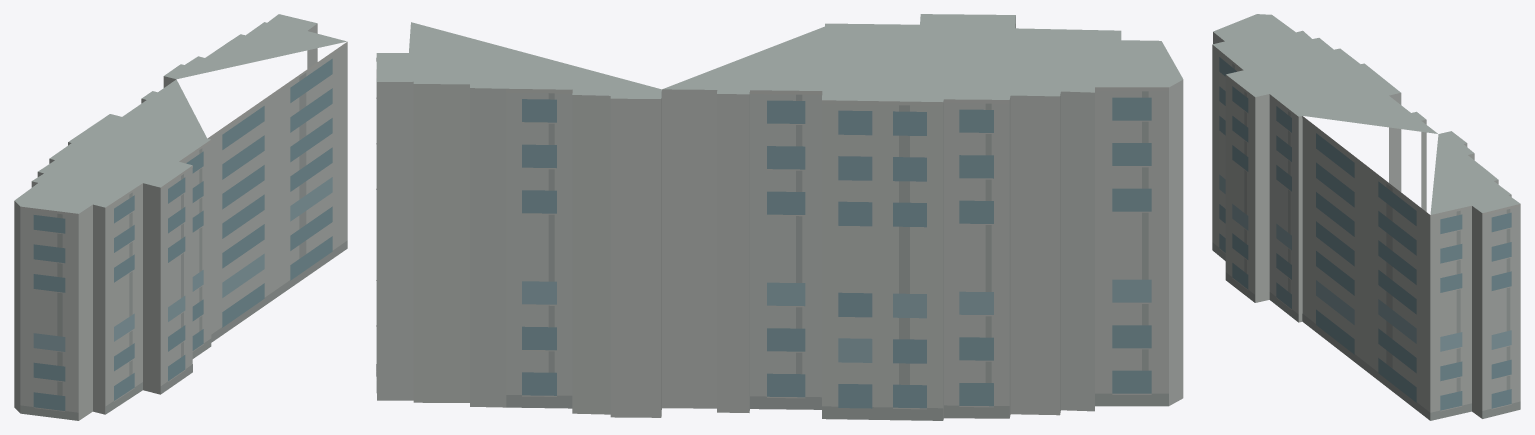
Rendered from survey-upis-32841072.glb.
3 views of the same model, side by side, from view 1: azimuth 30°, elevation 25°; view 2: azimuth 150°, elevation 25°; view 3: azimuth 270°, elevation 25° (orthographic). The views are drawn at different scales.
Parts seen in each view (by area): view 1: survey-upis-32841072.tmp; view 2: survey-upis-32841072.tmp; view 3: survey-upis-32841072.tmp.
Boxes of the visible parts, x1,y1,x2,y2 form: survey-upis-32841072.tmp: (14, 14, 347, 420); survey-upis-32841072.tmp: (376, 14, 1183, 420); survey-upis-32841072.tmp: (1212, 14, 1520, 420).
Bounding box in the file's own units: 43.16 × 20.6 × 27.97.
